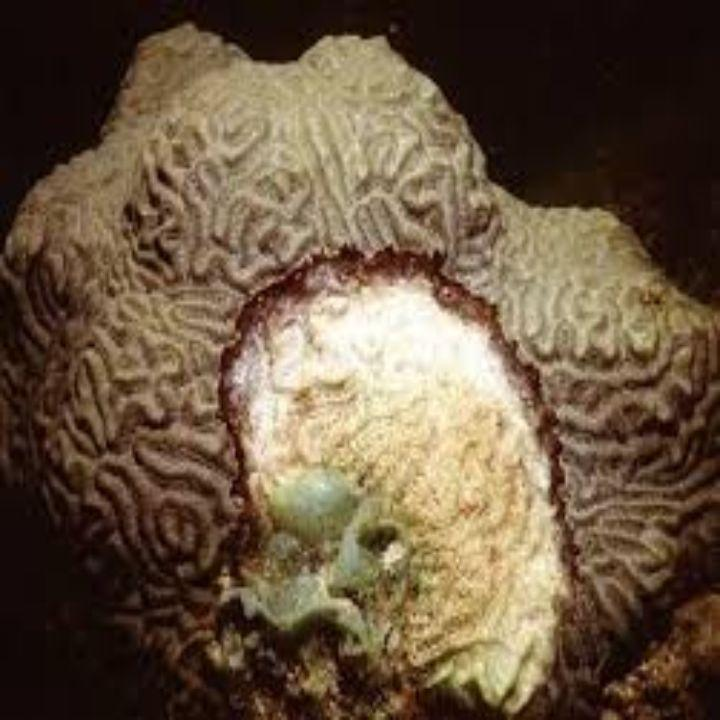White Pox Disease: (195, 255, 586, 715)
